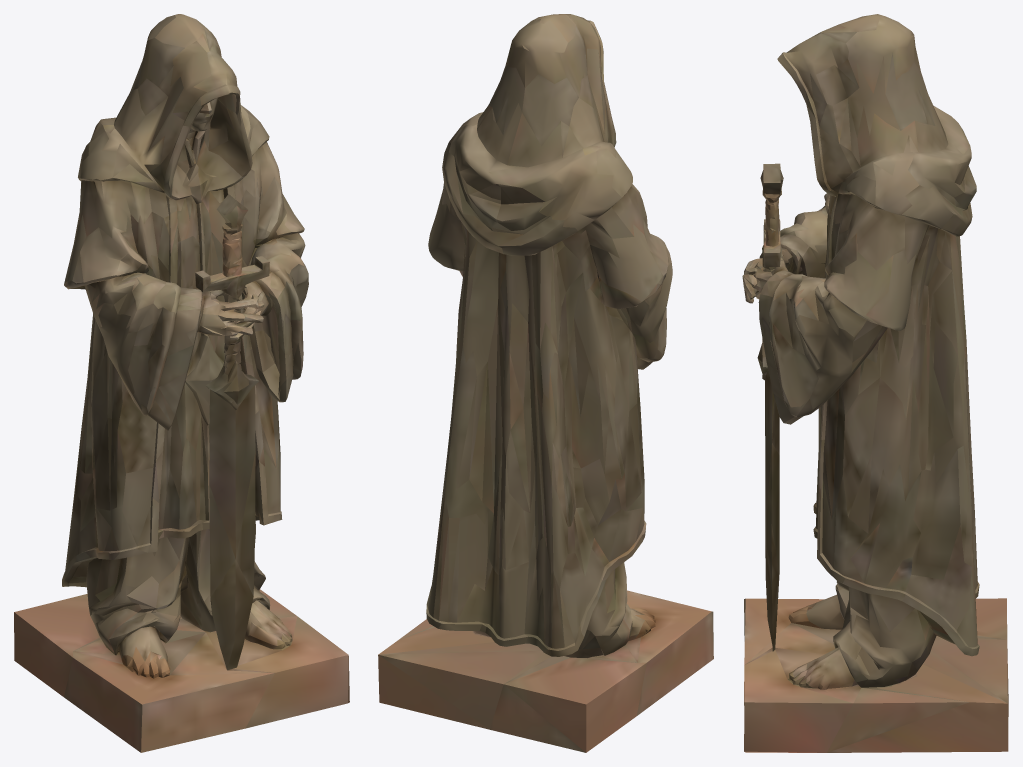
The model's file is statue.glb.
3 views of the same model, side by side, from view 1: azimuth 30°, elevation 25°; view 2: azimuth 150°, elevation 25°; view 3: azimuth 270°, elevation 25° (orthographic). The views are drawn at different scales.
Parts seen in each view (by area): view 1: output_unwrapped; view 2: output_unwrapped; view 3: output_unwrapped.
Part boxes in pixels (x1,y1,x2,y2): output_unwrapped: (14, 14, 349, 752); output_unwrapped: (378, 14, 713, 752); output_unwrapped: (742, 14, 1008, 752).
Size of the model in its own units: 0.6826 by 1.9 by 0.6675.
Materials: 1 (1 with a texture image).
